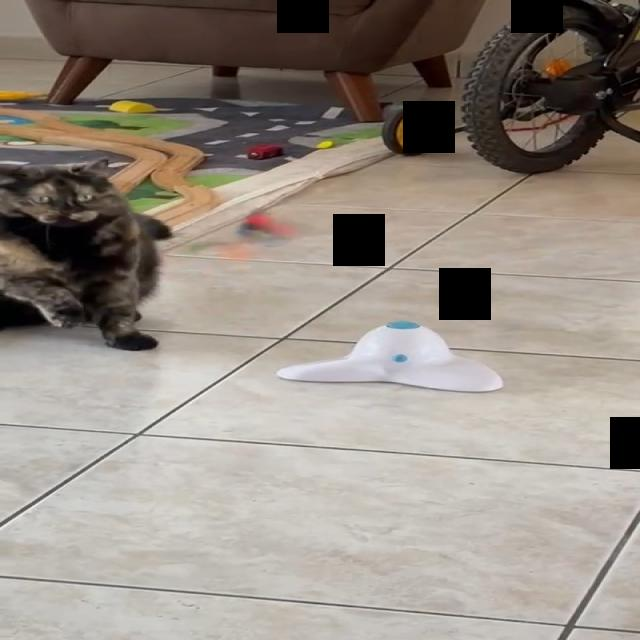authorized: (0, 157, 173, 351)
